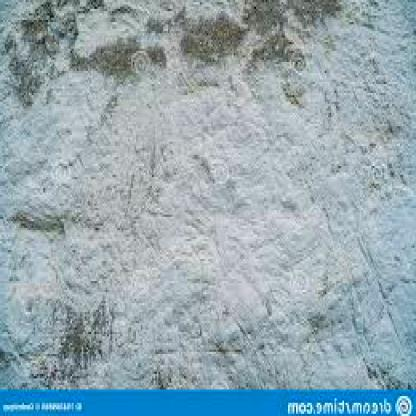Sedimentary_Chalk: (24, 100, 333, 361)
